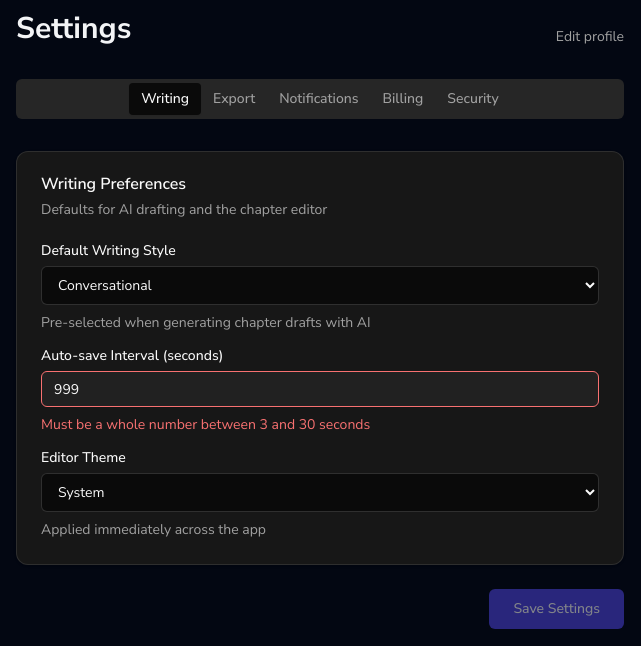
Test case: SettingsPage › hints why Save is disabled when an off-tab (Writing) validation fails (#215)
The width and height of the screenshot is (641, 646).
Click the tab "Export".
click(234, 99)  # box [201,83,267,115]
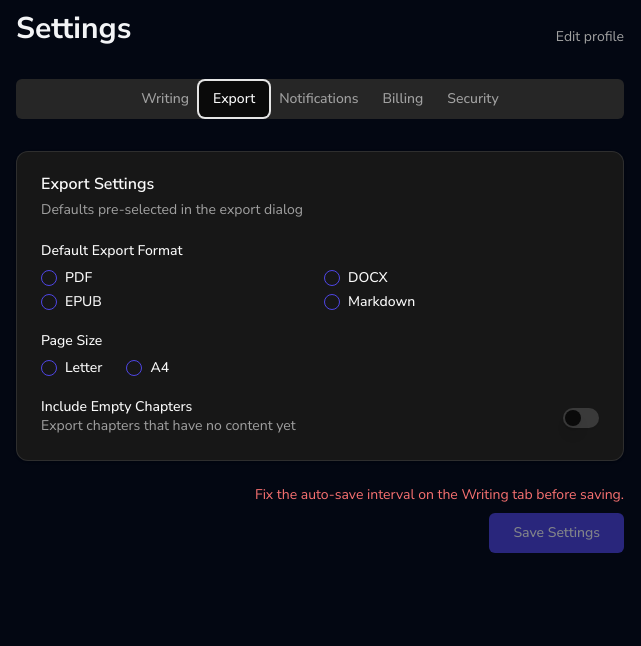
Expected: the button "Save Settings" is disabled, [489,513,624,553]
Expected: the message shows "auto-save interval on the Writing tab", [255,485,624,504]
